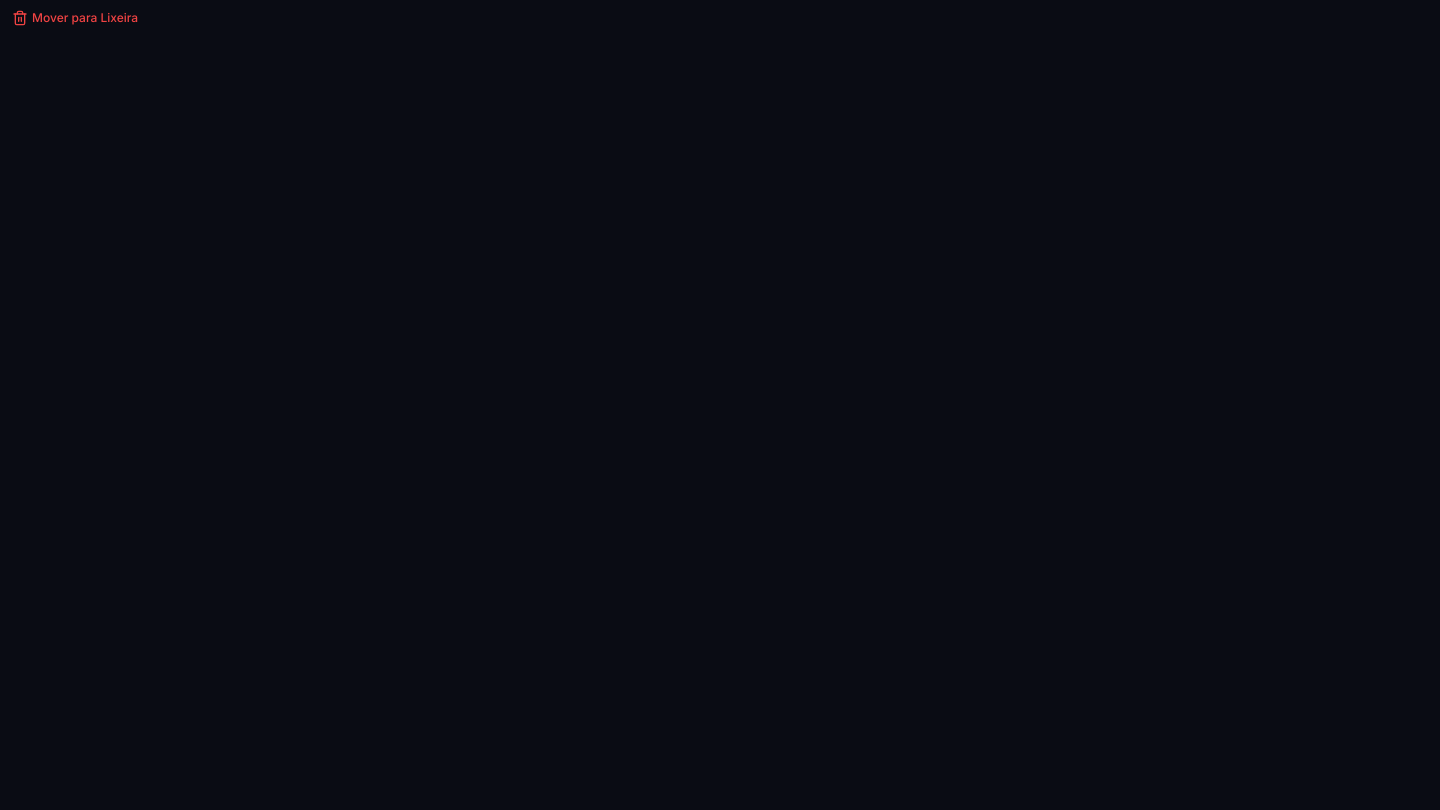
Test case: confirmação da lixeira sem depender de realtime › fecha o diálogo e invalida somente a ficha correta após arquivamento confirmado
The image size is (1440, 810).
What coordinates should you click on to do the following:
click the button "Mover para Lixeira"
I would click on:
 (75, 18)
Its box is [0, 0, 150, 36].
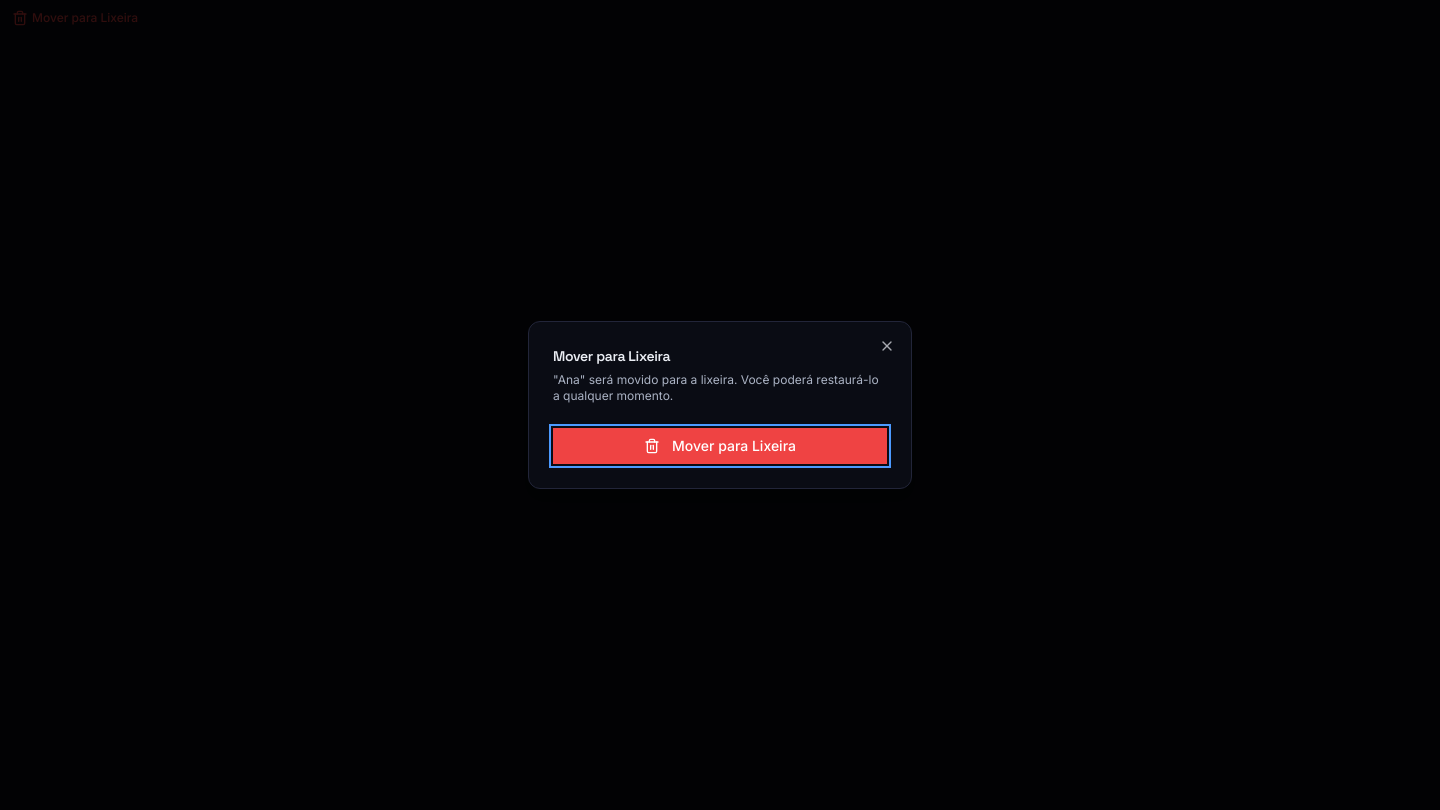
What coordinates should you click on to do the following:
click the button "Mover para Lixeira"
I would click on:
 (720, 446)
Its box is [553, 428, 887, 464].
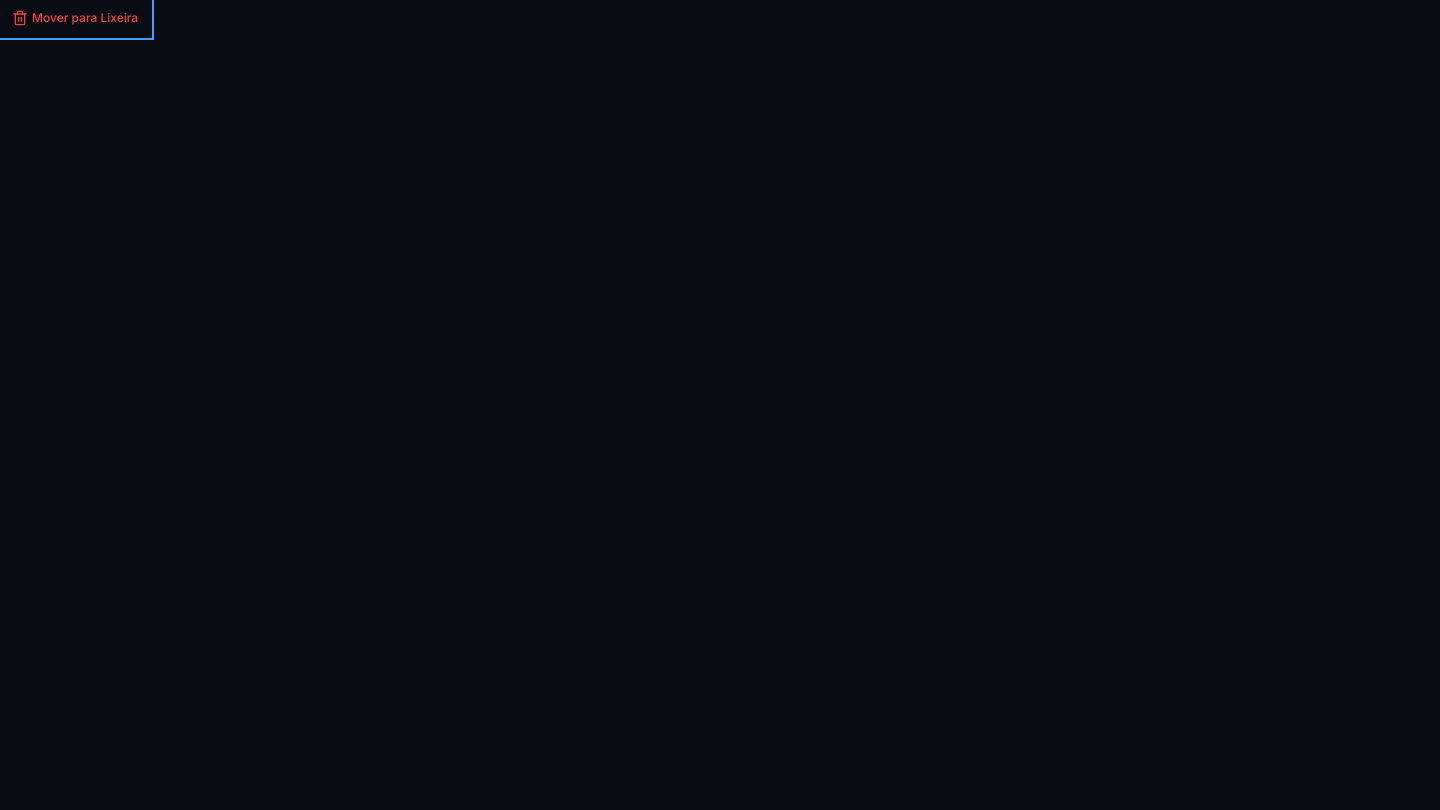
Check: the dialog is gone
